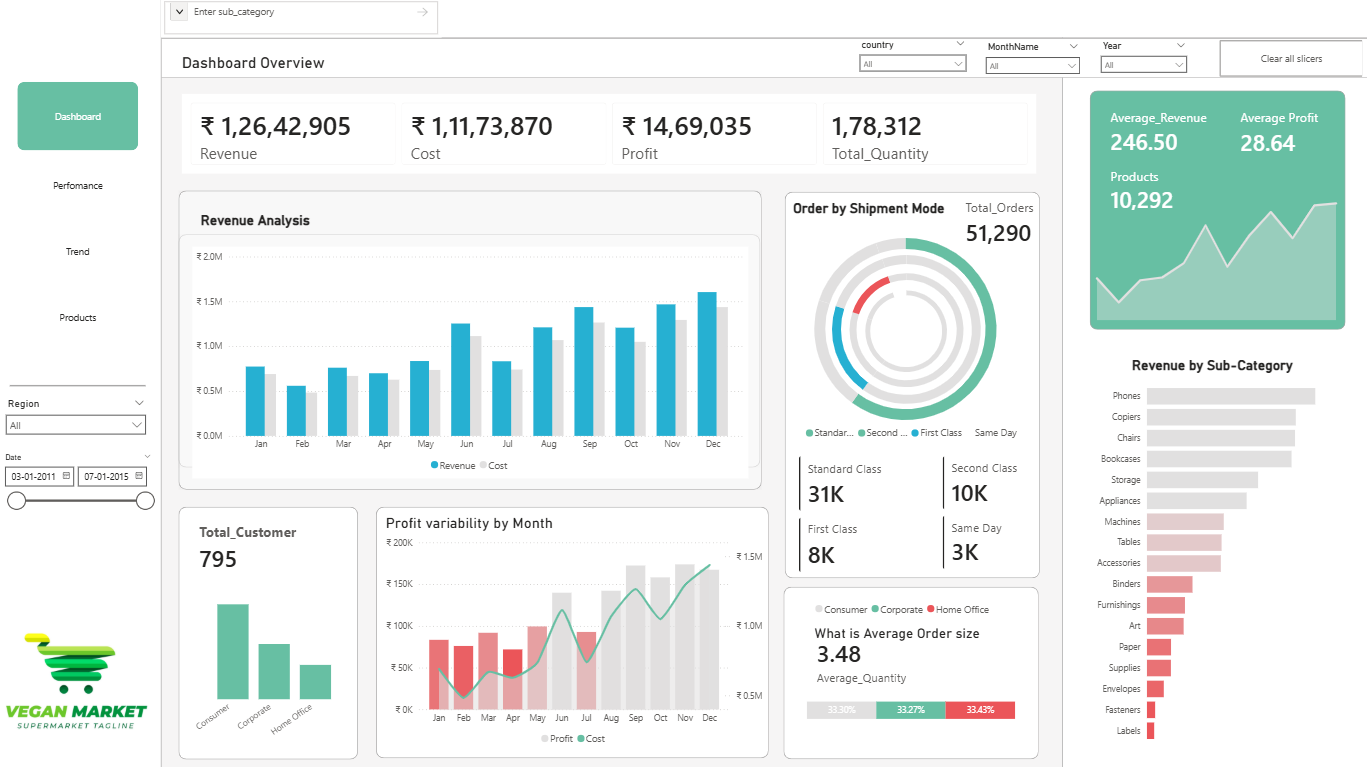

Layout of this report page (visuals, bound fields, positions):
{"tool":"powerbi","page":{"name":"Dashboard","canvas":[1920,1080],"ordinal":0},"visuals":[{"type":"shape","box":[254.6,329.7,811.8,325.6],"z":0},{"type":"shape","box":[254.6,269.2,813.9,417.4],"z":1000},{"type":"shape","box":[1488.2,0,432.2,1080.6],"z":2000},{"type":"shape","box":[0,0,1920.4,55.6],"z":3000},{"type":"shape","box":[0,55.6,1920.4,55.6],"z":4000},{"type":"shape","box":[0,0,231,1080.6],"z":5000},{"type":"textbox","box":[255.2,74.1,224.4,35],"z":6000},{"type":"textSlicer","fields":{"Values":["SuperStore_Orders.sub_category"]},"box":[230.5,0,391.1,55],"z":7000},{"type":"cardVisual","fields":{"Data":["Measure.Revenue","Measure.Cost","Measure.Profit","Measure.Total_Quantity"]},"box":[254.6,129.4,1202.1,121],"z":8000},{"type":"clusteredColumnChart","title":"Revenue & Cost by Month","fields":{"Category":["Custom_Calender.Month"],"Y":["Measure.Revenue","Measure.Cost"]},"box":[273.4,346.4,776.3,323.5],"z":9000},{"type":"shape","box":[1101.2,269.6,356.1,539.3],"z":10000},{"type":"shape","box":[1099.1,821.3,356.1,240.8],"z":11000},{"type":"shape","box":[531,710.1,548,351],"z":12000},{"type":"shape","box":[254.6,709.6,250.4,352.7],"z":13000},{"type":"textbox","box":[281,295.4,223.3,34.2],"z":14000},{"type":"cardVisual","title":"Customers","fields":{"Data":["Measure.Total_Customer"]},"box":[254.6,709.6,206.6,114.8],"z":15000},{"type":"columnChart","fields":{"Category":["SuperStore_Orders.segment"],"Y":["Measure.Total_Customer"]},"box":[273.4,807.7,219.1,237.9],"z":16000},{"type":"lineClusteredColumnComboChart","title":"Profit variability by Month","fields":{"Category":["Custom_Calender.MonthName"],"Y":["Measure.Profit"],"Y2":["Measure.Cost"]},"box":[538.4,720,536.3,331.8],"z":17000},{"type":"donutChart","fields":{"Category":["SuperStore_Orders.ship_mode"],"Y":["Measure.Total_Rows"]},"box":[1066.4,298.4,407,327.7],"z":18000},{"type":"donutChart","fields":{"Category":["SuperStore_Orders.ship_mode"],"Y":["Measure.Total_Rows"]},"box":[1096.5,327.5,346.8,269.5],"z":19000},{"type":"donutChart","fields":{"Category":["SuperStore_Orders.ship_mode"],"Y":["Measure.Total_Rows"]},"box":[1131.1,359,277.6,208.7],"z":20000},{"type":"cardVisual","title":"Customers","fields":{"Data":["Measure.Total_Rows"]},"box":[1323.1,256.7,206.6,114.8],"z":21000},{"type":"cardVisual","fields":{"Data":["Measure.StandartClass_count","Measure.FirstClass_count"]},"box":[1108.2,626.1,171.1,189.9],"z":22000},{"type":"cardVisual","fields":{"Data":["Measure.SecondClass_count","Measure.SameDay_count"]},"box":[1308.5,626.1,171.1,185.7],"z":23000},{"type":"donutChart","fields":{"Category":["SuperStore_Orders.ship_mode"],"Y":["Measure.Total_Rows"]},"box":[1177,388.2,185.7,152.3],"z":24000},{"type":"donutChart","fields":{"Category":["SuperStore_Orders.ship_mode"],"Y":["Measure.Total_Orders"]},"box":[1116.5,596.9,325.6,29.2],"z":25000},{"type":"donutChart","fields":{"Category":["SuperStore_Orders.segment"]},"box":[1110.3,832.7,311,35.5],"z":26000},{"type":"textbox","box":[1137.4,870.3,256.7,56.3],"z":27000},{"type":"cardVisual","title":"Customers","fields":{"Data":["Measure.Average_Quantity"]},"box":[1116.5,868.2,206.6,114.8],"z":28000},{"type":"hundredPercentStackedBarChart","fields":{"Y":["Measure.Average_Quantity"],"Series":["SuperStore_Orders.segment"]},"box":[1127,937,300.5,108.5],"z":29000},{"type":"shape","box":[1525.6,129.4,356.9,333.9],"z":30000},{"type":"cardVisual","title":"Customers","fields":{"Data":["Measure.Products"]},"box":[1525.6,210.8,146.1,116.9],"z":31000},{"type":"cardVisual","title":"Customers","fields":{"Data":["Measure.Average_Revenue"]},"box":[1525.6,129.4,215,116.9],"z":32000},{"type":"cardVisual","title":"Customers","fields":{"Data":["Measure.Avg_Profit"]},"box":[1707.1,135.7,175.3,104.3],"z":33000},{"type":"areaChart","fields":{"Category":["Custom_Calender.MonthName"],"Y":["Measure.Products"]},"box":[1520,269.2,368,186],"z":34000},{"type":"clusteredBarChart","fields":{"Category":["SuperStore_Orders.sub_category"],"Y":["Measure.Revenue"]},"box":[1525.6,520.5,360.2,531.3],"z":35000},{"type":"pageNavigator","box":[29.2,116.9,169,375.7],"z":36000},{"type":"shape","box":[18.8,496.7,189.9,87.7],"z":37000},{"type":"actionButton","box":[1707.1,58.4,200.3,50.1],"z":38000},{"type":"image","box":[10.4,834.8,208.7,227.5],"z":39000},{"type":"slicer","fields":{"Values":["SuperStore_Orders.region"]},"box":[3.4,553.1,215.4,72.4],"z":40000},{"type":"slicer","fields":{"Values":["Custom_Calender.Date"]},"box":[0,625.5,229.2,101.7],"z":41000},{"type":"slicer","fields":{"Values":["Custom_Calender.MonthName"]},"box":[1371.6,61.2,151.3,61],"z":42000},{"type":"slicer","fields":{"Values":["Custom_Calender.Year"]},"box":[1531,59.4,140.5,61.2],"z":43000},{"type":"slicer","fields":{"Values":["SuperStore_Orders.country"]},"box":[1194.1,57.6,169.3,61.2],"z":44000},{"type":"textbox","box":[1107.7,277.4,223.3,34.2],"z":45000},{"type":"textbox","box":[1579.6,497.1,250.4,34.2],"z":46000}]}

Visuals, with their boxes on the page's 1920x1080 design canvas (x1, y1, x2, y2). These are canvas units, not pixel positions in the 1367x767 screenshot, which may show the page scaled, cropped or inside an application window:
shape: x1=255, y1=330, x2=1066, y2=655
shape: x1=255, y1=269, x2=1068, y2=687
shape: x1=1488, y1=0, x2=1920, y2=1081
shape: x1=0, y1=0, x2=1920, y2=56
shape: x1=0, y1=56, x2=1920, y2=111
shape: x1=0, y1=0, x2=231, y2=1081
textbox: x1=255, y1=74, x2=480, y2=109
textSlicer - SuperStore_Orders.sub_category: x1=230, y1=0, x2=622, y2=55
cardVisual - Measure.Revenue x Measure.Cost: x1=255, y1=129, x2=1457, y2=250
"Revenue & Cost by Month" clusteredColumnChart: x1=273, y1=346, x2=1050, y2=670
shape: x1=1101, y1=270, x2=1457, y2=809
shape: x1=1099, y1=821, x2=1455, y2=1062
shape: x1=531, y1=710, x2=1079, y2=1061
shape: x1=255, y1=710, x2=505, y2=1062
textbox: x1=281, y1=295, x2=504, y2=330
"Customers" cardVisual: x1=255, y1=710, x2=461, y2=824
columnChart - SuperStore_Orders.segment x Measure.Total_Customer: x1=273, y1=808, x2=492, y2=1046
"Profit variability by Month" lineClusteredColumnComboChart: x1=538, y1=720, x2=1075, y2=1052
donutChart - SuperStore_Orders.ship_mode x Measure.Total_Rows: x1=1066, y1=298, x2=1473, y2=626
donutChart - SuperStore_Orders.ship_mode x Measure.Total_Rows: x1=1096, y1=328, x2=1443, y2=597
donutChart - SuperStore_Orders.ship_mode x Measure.Total_Rows: x1=1131, y1=359, x2=1409, y2=568
"Customers" cardVisual: x1=1323, y1=257, x2=1530, y2=372
cardVisual - Measure.StandartClass_count x Measure.FirstClass_count: x1=1108, y1=626, x2=1279, y2=816
cardVisual - Measure.SecondClass_count x Measure.SameDay_count: x1=1308, y1=626, x2=1480, y2=812
donutChart - SuperStore_Orders.ship_mode x Measure.Total_Rows: x1=1177, y1=388, x2=1363, y2=540
donutChart - SuperStore_Orders.ship_mode x Measure.Total_Orders: x1=1116, y1=597, x2=1442, y2=626
donutChart - SuperStore_Orders.segment: x1=1110, y1=833, x2=1421, y2=868
textbox: x1=1137, y1=870, x2=1394, y2=927
"Customers" cardVisual: x1=1116, y1=868, x2=1323, y2=983
hundredPercentStackedBarChart - Measure.Average_Quantity x SuperStore_Orders.segment: x1=1127, y1=937, x2=1428, y2=1046
shape: x1=1526, y1=129, x2=1882, y2=463
"Customers" cardVisual: x1=1526, y1=211, x2=1672, y2=328
"Customers" cardVisual: x1=1526, y1=129, x2=1741, y2=246
"Customers" cardVisual: x1=1707, y1=136, x2=1882, y2=240
areaChart - Custom_Calender.MonthName x Measure.Products: x1=1520, y1=269, x2=1888, y2=455
clusteredBarChart - SuperStore_Orders.sub_category x Measure.Revenue: x1=1526, y1=520, x2=1886, y2=1052
pageNavigator: x1=29, y1=117, x2=198, y2=493
shape: x1=19, y1=497, x2=209, y2=584
actionButton: x1=1707, y1=58, x2=1907, y2=108
image: x1=10, y1=835, x2=219, y2=1062
slicer - SuperStore_Orders.region: x1=3, y1=553, x2=219, y2=626
slicer - Custom_Calender.Date: x1=0, y1=626, x2=229, y2=727
slicer - Custom_Calender.MonthName: x1=1372, y1=61, x2=1523, y2=122
slicer - Custom_Calender.Year: x1=1531, y1=59, x2=1672, y2=121
slicer - SuperStore_Orders.country: x1=1194, y1=58, x2=1363, y2=119
textbox: x1=1108, y1=277, x2=1331, y2=312
textbox: x1=1580, y1=497, x2=1830, y2=531
